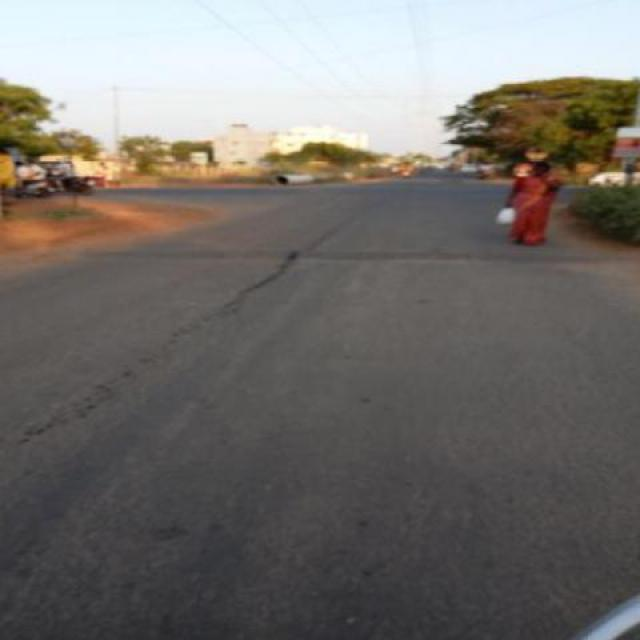Unmarked Bump: (25, 245, 616, 264)
